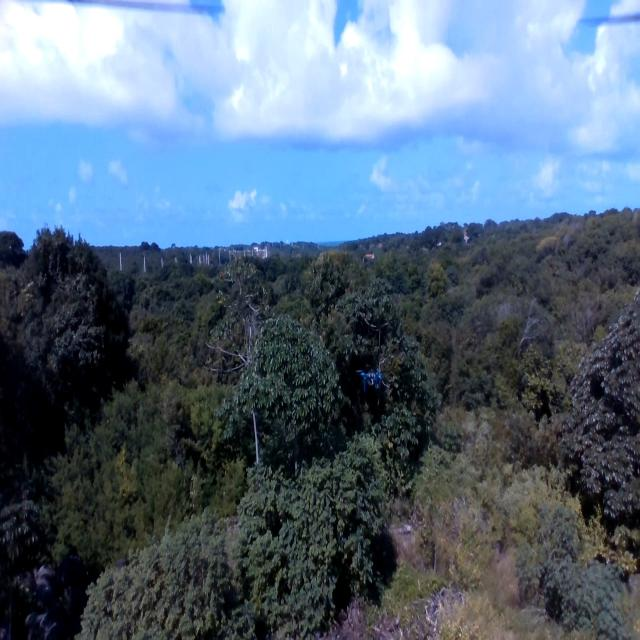-uav-: (354, 358, 394, 415)
